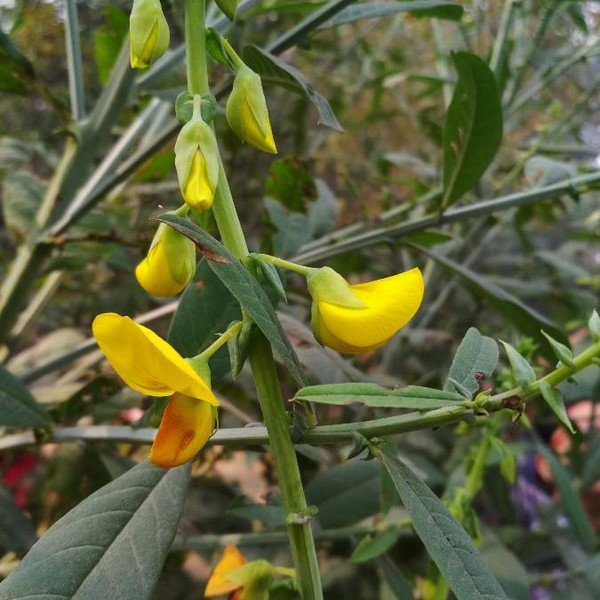obstacle: (97, 43, 403, 550), (350, 327, 587, 473)
